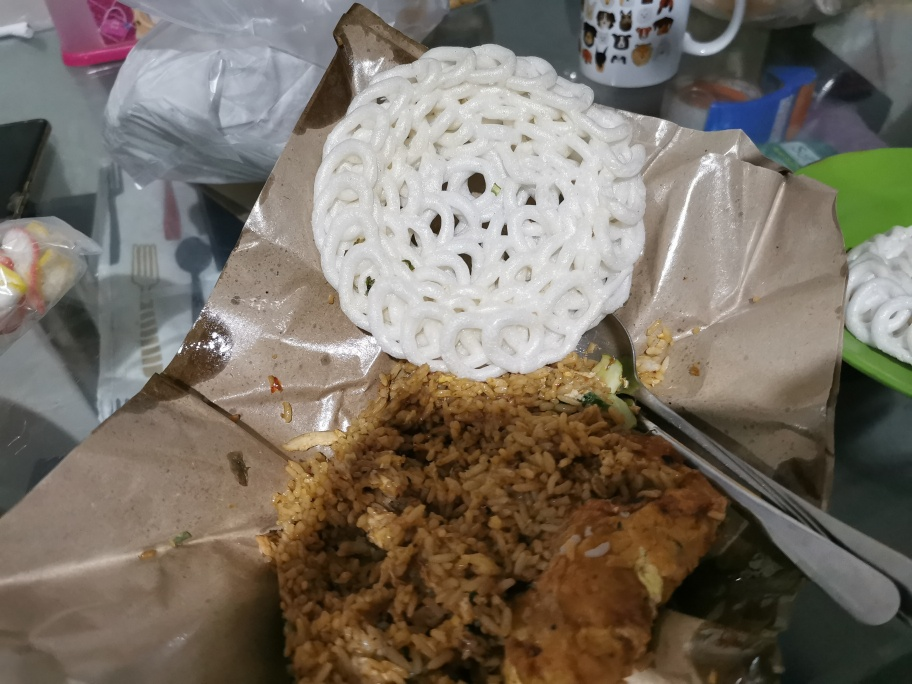kerupuk: (307, 42, 643, 359)
nasi goreng: (266, 365, 726, 684)
